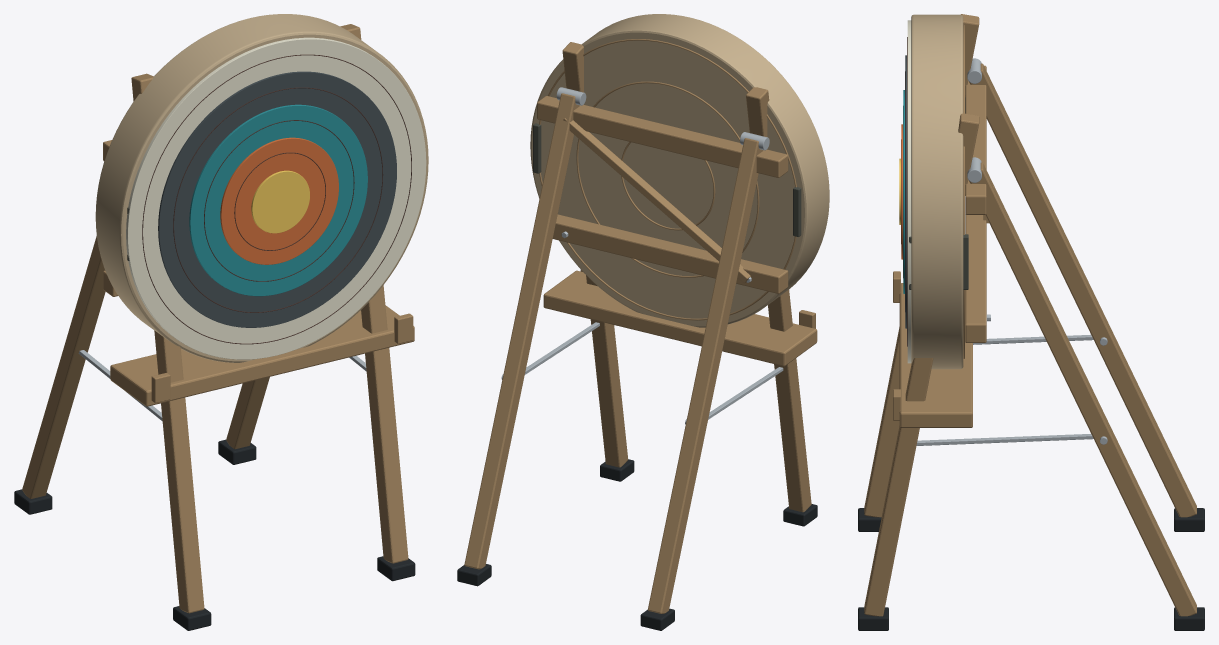
Rendered from city-archery-target-stand.glb.
The picture shows the model from 3 angles, left to right: view 1: azimuth 30°, elevation 25°; view 2: azimuth 150°, elevation 25°; view 3: azimuth 270°, elevation 25°; orthographic projection. The views are drawn at different scales.
Parts seen in each view (by area): view 1: Assembly | Plain golden frame wood, Assembly | Target cream outer face, Assembly | Powder-coated graphite steel, Assembly | Warm target backing fiber color, Assembly | Target blue green annulus, Assembly | Target burnt orange annulus, Assembly | Dark stitched edge piping, Assembly | Target warm amber center, Assembly | Dark rubber foot pads; view 2: Assembly | Plain golden frame wood, Assembly | Warm target backing fiber color, Assembly | Dark rubber foot pads, Assembly | Satin small metal fittings, Assembly | Dark woven strap appearance; view 3: Assembly | Plain golden frame wood, Assembly | Warm target backing fiber color, Assembly | Satin small metal fittings, Assembly | Dark rubber foot pads, Assembly | Target cream outer face, Assembly | Dark stitched edge piping, Assembly | Powder-coated graphite steel.
Boxes of the visible parts, <box> form: Assembly | Plain golden frame wood: <box>22,24,414,613</box>; Assembly | Target cream outer face: <box>126,37,426,359</box>; Assembly | Powder-coated graphite steel: <box>158,71,396,327</box>; Assembly | Warm target backing fiber color: <box>95,14,428,362</box>; Assembly | Target blue green annulus: <box>189,104,367,296</box>; Assembly | Target burnt orange annulus: <box>220,137,338,264</box>; Assembly | Dark stitched edge piping: <box>142,54,411,344</box>; Assembly | Target warm amber center: <box>251,170,309,233</box>; Assembly | Dark rubber foot pads: <box>14,439,415,630</box>; Assembly | Plain golden frame wood: <box>464,39,817,613</box>; Assembly | Warm target backing fiber color: <box>530,14,829,327</box>; Assembly | Dark rubber foot pads: <box>457,459,817,630</box>; Assembly | Satin small metal fittings: <box>501,87,783,424</box>; Assembly | Dark woven strap appearance: <box>533,123,801,236</box>; Assembly | Plain golden frame wood: <box>864,14,1196,616</box>; Assembly | Warm target backing fiber color: <box>911,14,963,369</box>; Assembly | Satin small metal fittings: <box>916,58,1107,445</box>; Assembly | Dark rubber foot pads: <box>858,508,1204,630</box>; Assembly | Target cream outer face: <box>907,20,911,363</box>; Assembly | Dark stitched edge piping: <box>901,37,907,346</box>; Assembly | Powder-coated graphite steel: <box>905,55,906,328</box>.
Size of the model in its own units: 1.2 by 2.03 by 1.17.
